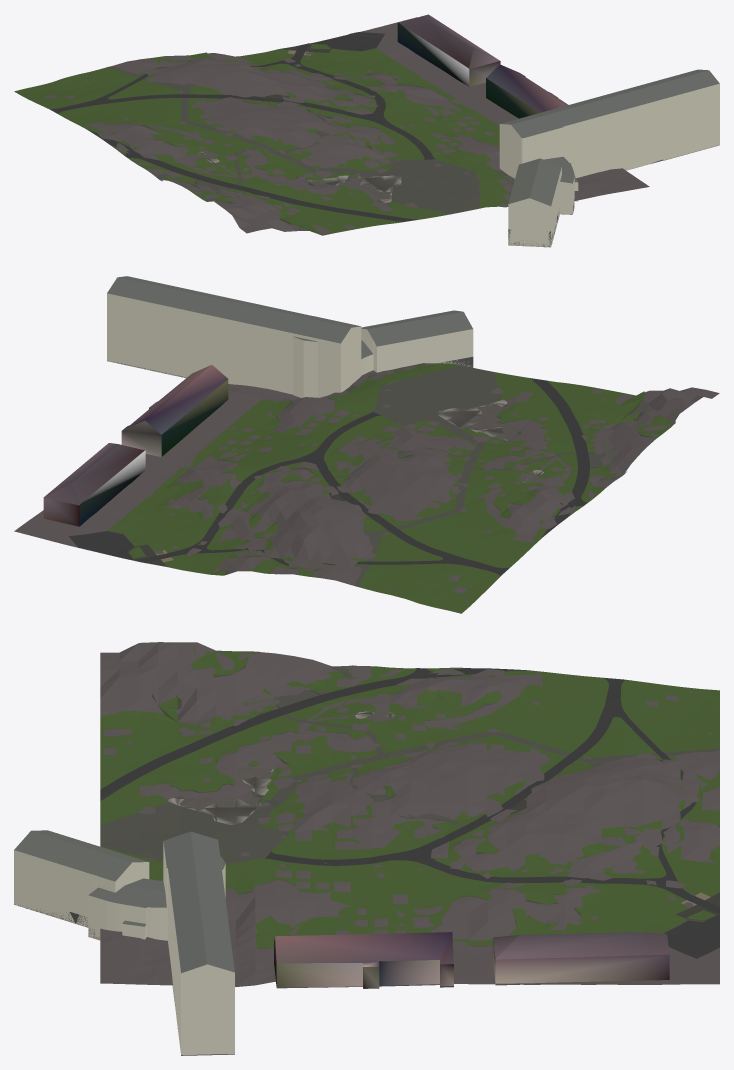
3 views of the same model, one above another, from view 1: azimuth 30°, elevation 25°; view 2: azimuth 150°, elevation 25°; view 3: azimuth 270°, elevation 25° (orthographic). The views are drawn at different scales.
Parts seen in each view (by area): view 1: c_m04_m18, append:c_m04_m18; view 2: c_m04_m18, append:c_m04_m18; view 3: c_m04_m18, append:c_m04_m18.
Part boxes in pixels (box(x1,y1,x2,y2)): c_m04_m18: box(14, 14, 719, 247); append:c_m04_m18: box(197, 151, 401, 202); c_m04_m18: box(14, 276, 719, 613); append:c_m04_m18: box(437, 399, 543, 482); c_m04_m18: box(14, 642, 719, 1055); append:c_m04_m18: box(168, 711, 395, 824).
Bounding box in the file's own units: 160 × 20.72 × 146.
